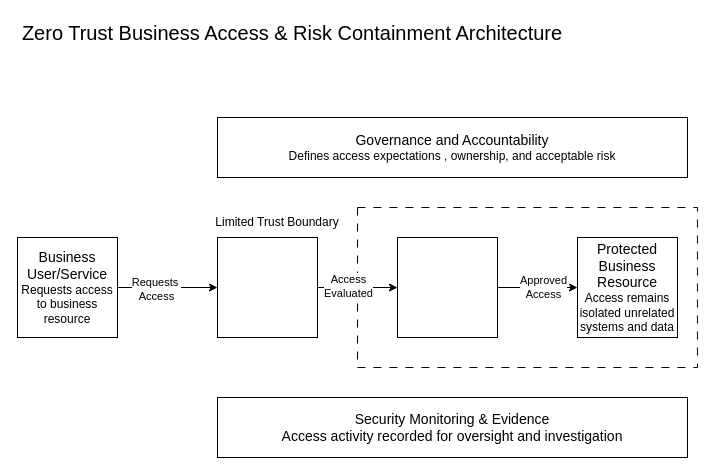
This 715x475 diagram has some shape labels left out. The box of each missing label's shape, as (x1, y1, x2, y2) in pixels:
Grant Only Required Access Limit access approved business resource: (396, 236, 498, 338)
Verify Idenity & Access Need: (216, 236, 318, 338)
